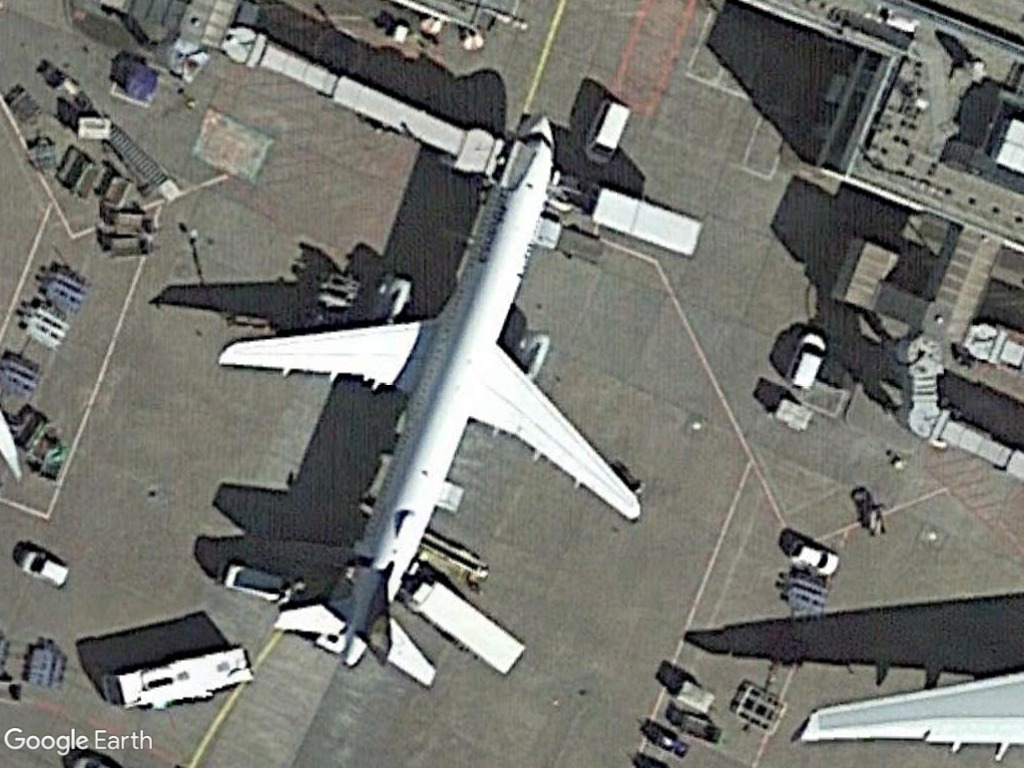airliner: (214, 111, 647, 691)
car: (784, 535, 842, 577)
truck: (403, 573, 528, 681)
van: (581, 99, 632, 169), (782, 329, 829, 393), (18, 547, 73, 588)
